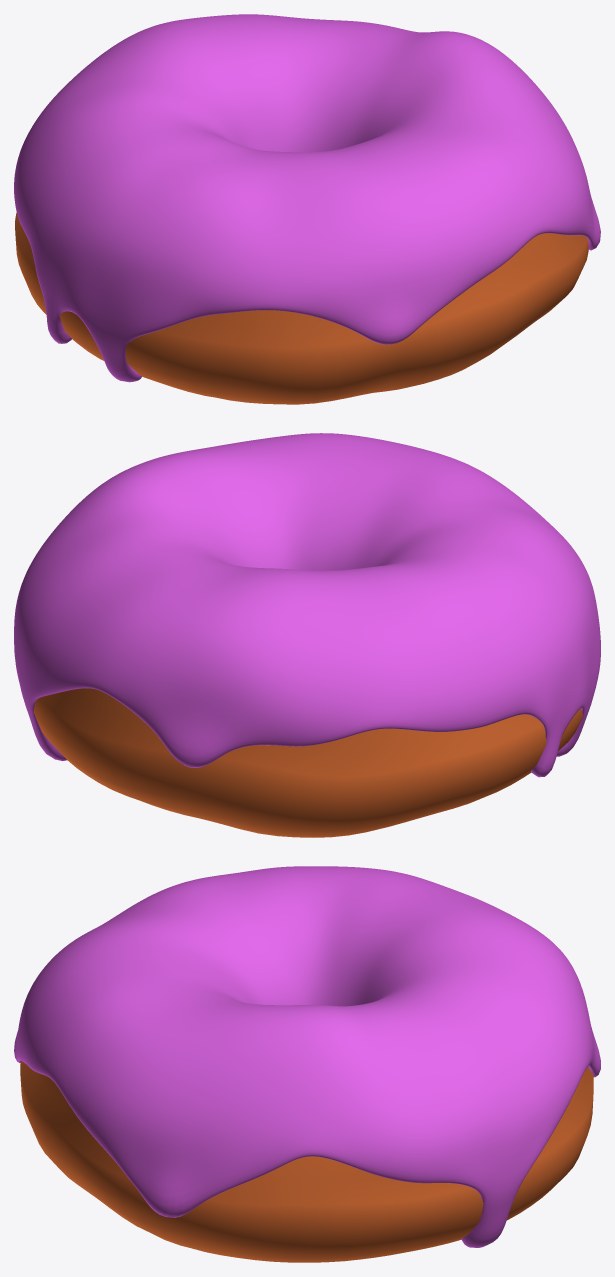
Rendered from donut.glb.
3 views of the same model, one above another, from view 1: azimuth 30°, elevation 25°; view 2: azimuth 150°, elevation 25°; view 3: azimuth 270°, elevation 25° (orthographic).
Parts seen in each view (by area): view 1: icing, donut; view 2: icing, donut; view 3: icing, donut.
Boxes of the visible parts, x1=… form: icing: x1=14, y1=14, x2=600, y2=382; donut: x1=15, y1=212, x2=588, y2=404; icing: x1=14, y1=433, x2=600, y2=777; donut: x1=33, y1=688, x2=582, y2=837; icing: x1=14, y1=866, x2=600, y2=1247; donut: x1=20, y1=1061, x2=593, y2=1262.
Size of the model in its own units: 0.1241 by 0.0584 by 0.1243.
